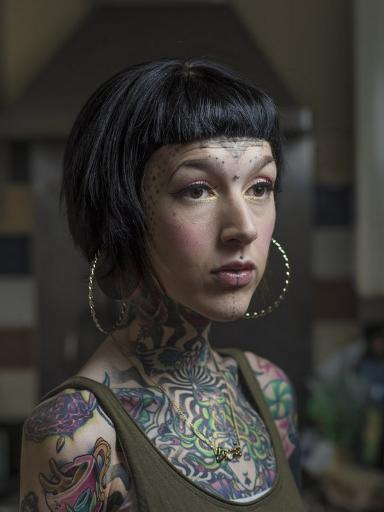left_eye: (245, 182, 274, 202)
left_lip_corner: (250, 265, 260, 278)
right_eye: (175, 181, 217, 206)
right_lip_corner: (208, 268, 220, 284)
